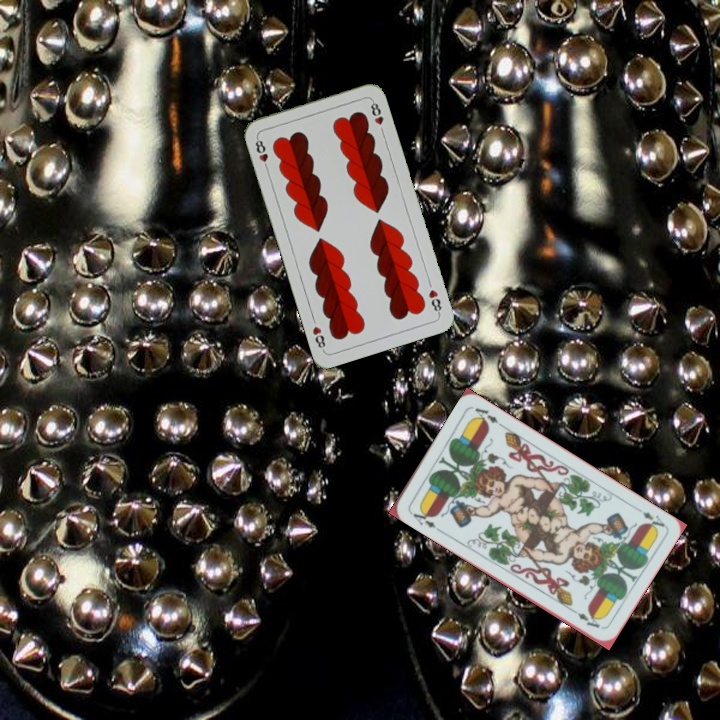EA: (409, 504, 438, 531), (638, 508, 667, 532)
H8: (251, 133, 271, 173), (425, 285, 444, 317)
